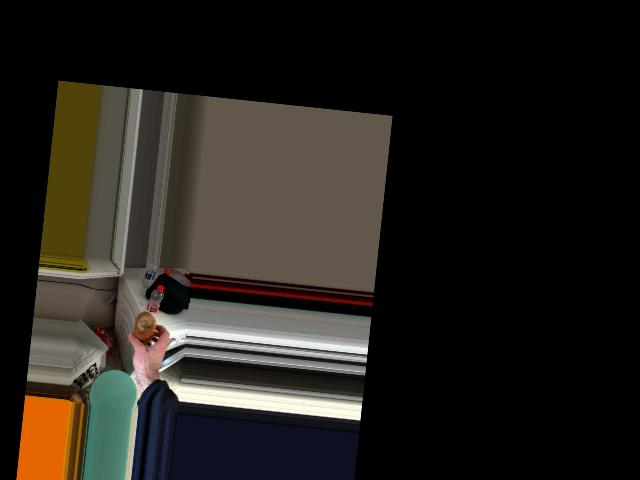sweet_potato: (129, 311, 162, 350)
